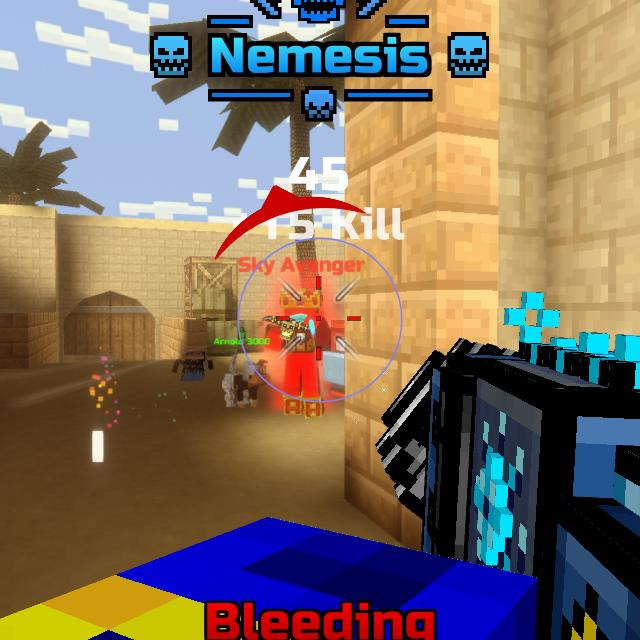Enemy: (264, 292, 331, 419)
